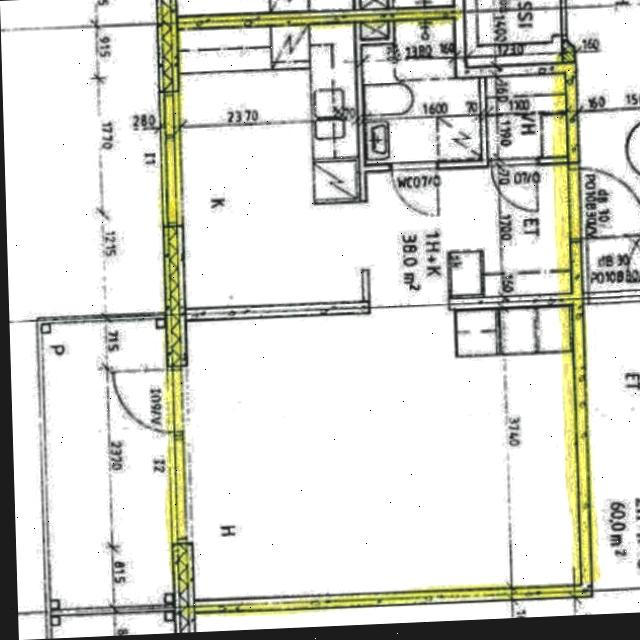room: (359, 17, 483, 163), (485, 73, 569, 159)
